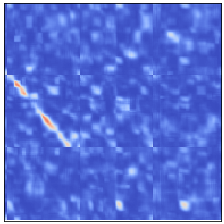action_path: (4, 75, 78, 149)
